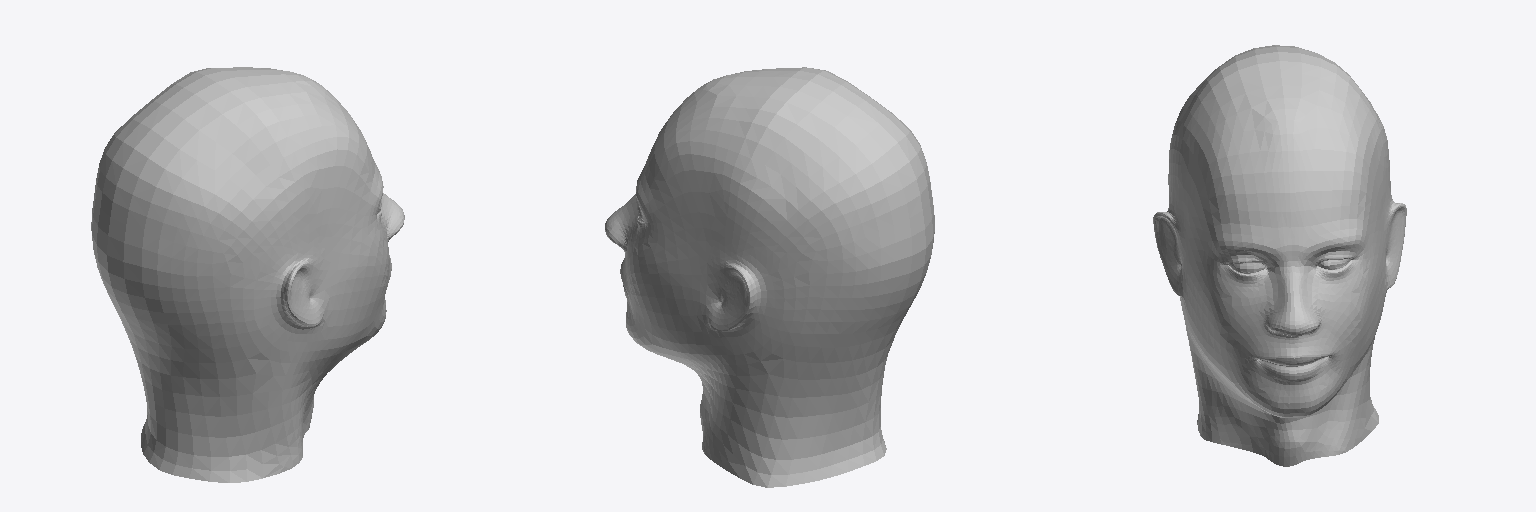
File: cavalier_head.obj
3 views of the same model, side by side, from view 1: azimuth 30°, elevation 25°; view 2: azimuth 150°, elevation 25°; view 3: azimuth 270°, elevation 25° (orthographic).
Visible parts, largest first — view 1: 15548_French_Horseman_v1; view 2: 15548_French_Horseman_v1; view 3: 15548_French_Horseman_v1.
Boxes of the visible parts, box(x1,y1,x2,y2) form: 15548_French_Horseman_v1: box(91, 67, 404, 482); 15548_French_Horseman_v1: box(605, 67, 934, 487); 15548_French_Horseman_v1: box(1153, 45, 1406, 466).
Size of the model in its own units: 1.11 by 1.27 by 0.7931.